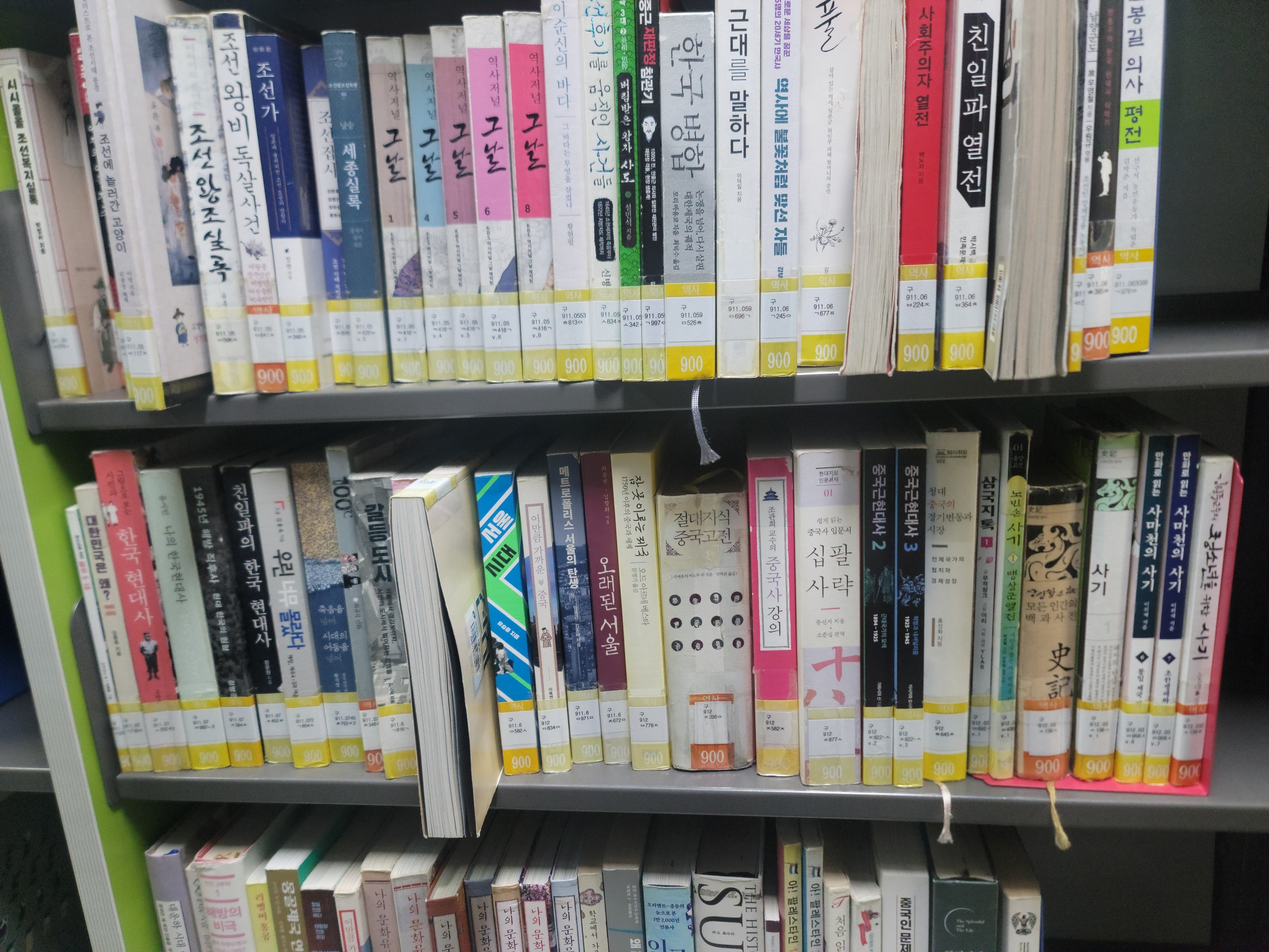book-spine: (91, 451, 191, 773), (655, 491, 753, 776), (137, 470, 230, 770), (179, 467, 262, 768), (249, 469, 328, 770), (288, 463, 365, 770), (1073, 432, 1141, 779), (218, 467, 295, 769), (73, 488, 154, 771), (795, 451, 860, 787), (1014, 484, 1087, 780), (351, 476, 419, 780), (472, 471, 540, 775), (1173, 457, 1235, 786), (1143, 434, 1201, 783), (922, 432, 979, 783), (1117, 436, 1173, 784), (611, 453, 671, 775), (325, 450, 384, 771), (63, 505, 133, 773), (546, 453, 604, 774), (745, 459, 800, 777), (579, 452, 633, 774), (514, 478, 572, 774), (1197, 477, 1244, 786), (991, 432, 1030, 780), (966, 453, 1002, 780), (895, 448, 927, 786), (863, 449, 895, 784)
